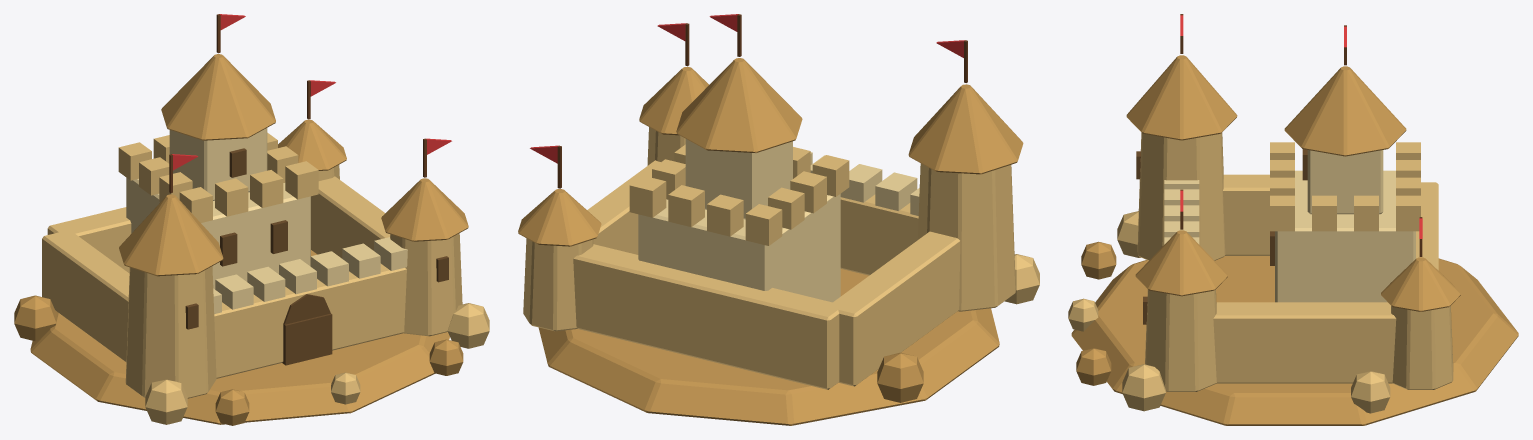
Rendered from sand-castle-2x2.glb.
3 views of the same model, side by side, from view 1: azimuth 30°, elevation 25°; view 2: azimuth 150°, elevation 25°; view 3: azimuth 270°, elevation 25° (orthographic). The views are drawn at different scales.
Parts seen in each view (by area): view 1: sand-castle-2x2; view 2: sand-castle-2x2; view 3: sand-castle-2x2.
Boxes of the visible parts, x1,y1,x2,y2 form: sand-castle-2x2: (14, 14, 489, 425); sand-castle-2x2: (518, 14, 1039, 425); sand-castle-2x2: (1068, 14, 1518, 425).
Bounding box in the file's own units: 1.74 × 1.37 × 1.8.
Materials: 1 (1 with a texture image).
